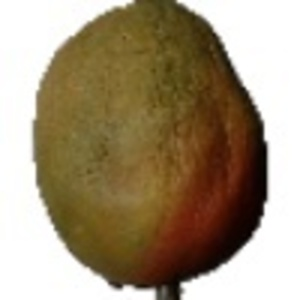mamão: (28, 4, 278, 290)
